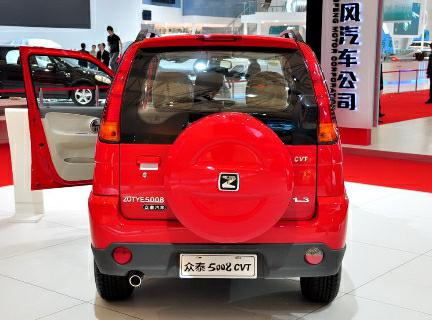众泰-5008: (88, 30, 352, 313)
